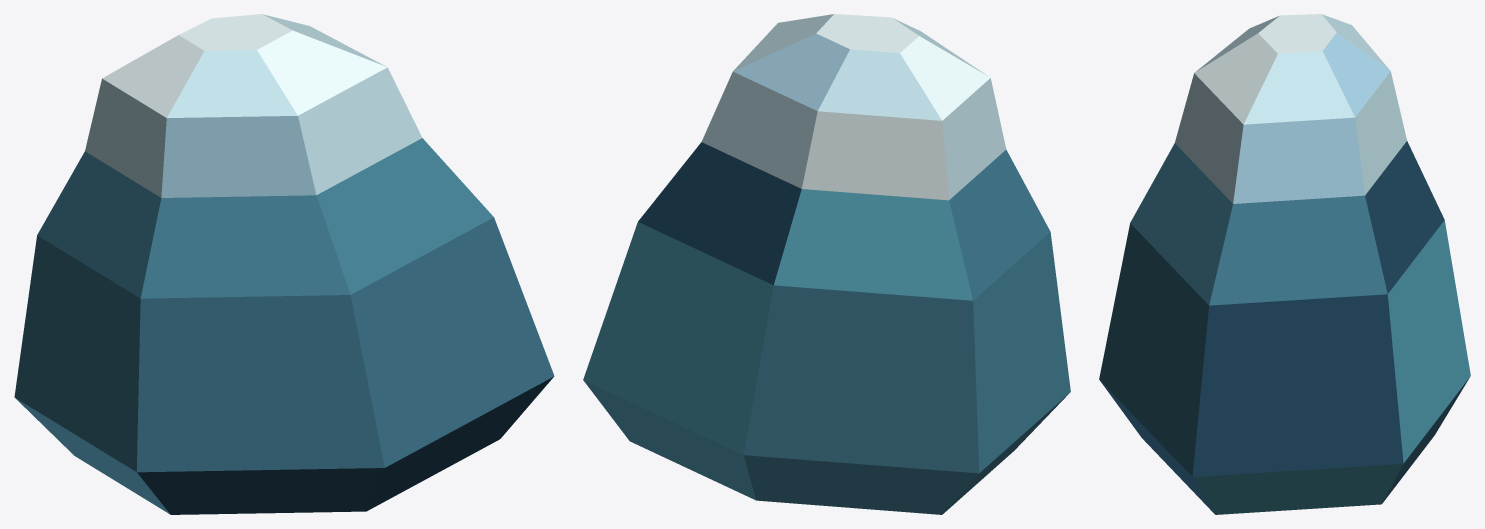
The model's file is glacial-boulder.glb.
3 renders of one model, left to right at view 1: azimuth 30°, elevation 25°; view 2: azimuth 150°, elevation 25°; view 3: azimuth 270°, elevation 25°, orthographic. The views are drawn at different scales.
Visible parts, largest first — view 1: glacial-boulder; view 2: glacial-boulder; view 3: glacial-boulder.
Part boxes in pixels (x1,y1,x2,y2): glacial-boulder: (14,14,554,514); glacial-boulder: (583,14,1070,514); glacial-boulder: (1099,14,1470,514).
Size of the model in its own units: 2.2 by 2.1 by 1.84.
